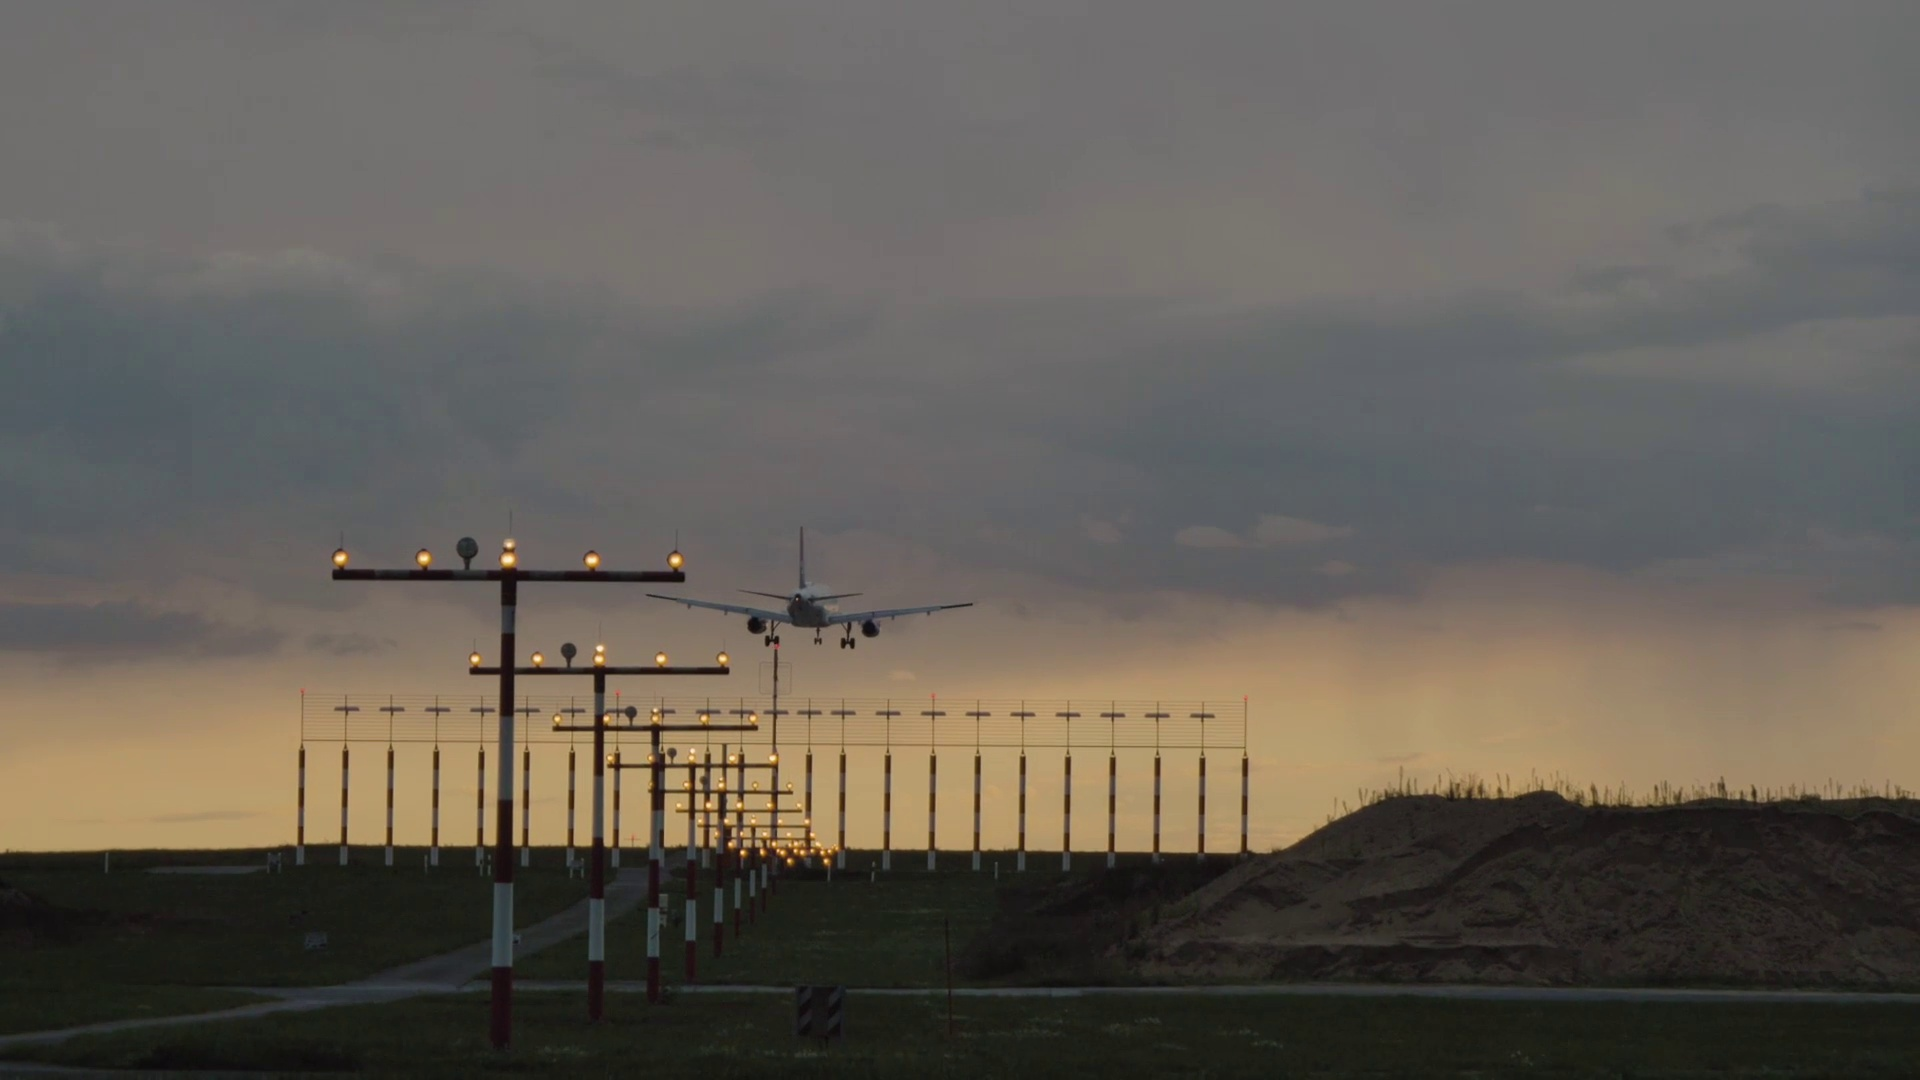plane: (644, 526, 978, 647)
